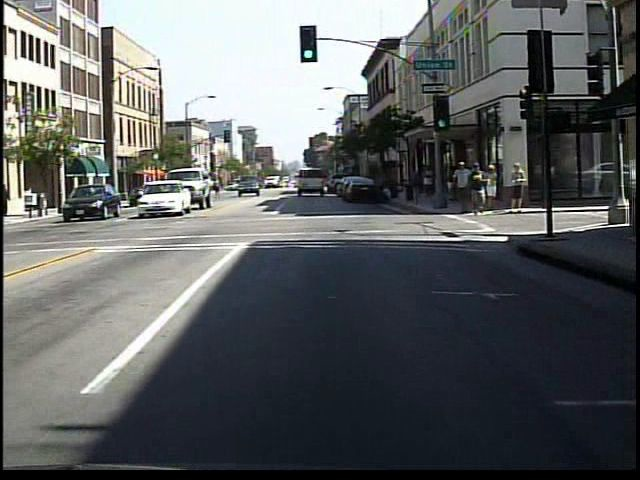person: (506, 158, 531, 220), (468, 161, 490, 219), (450, 159, 472, 215), (484, 162, 502, 213), (420, 161, 438, 205), (209, 174, 226, 202)
